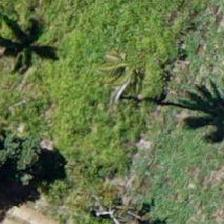Kelapa_Sawit: (84, 38, 174, 128)
